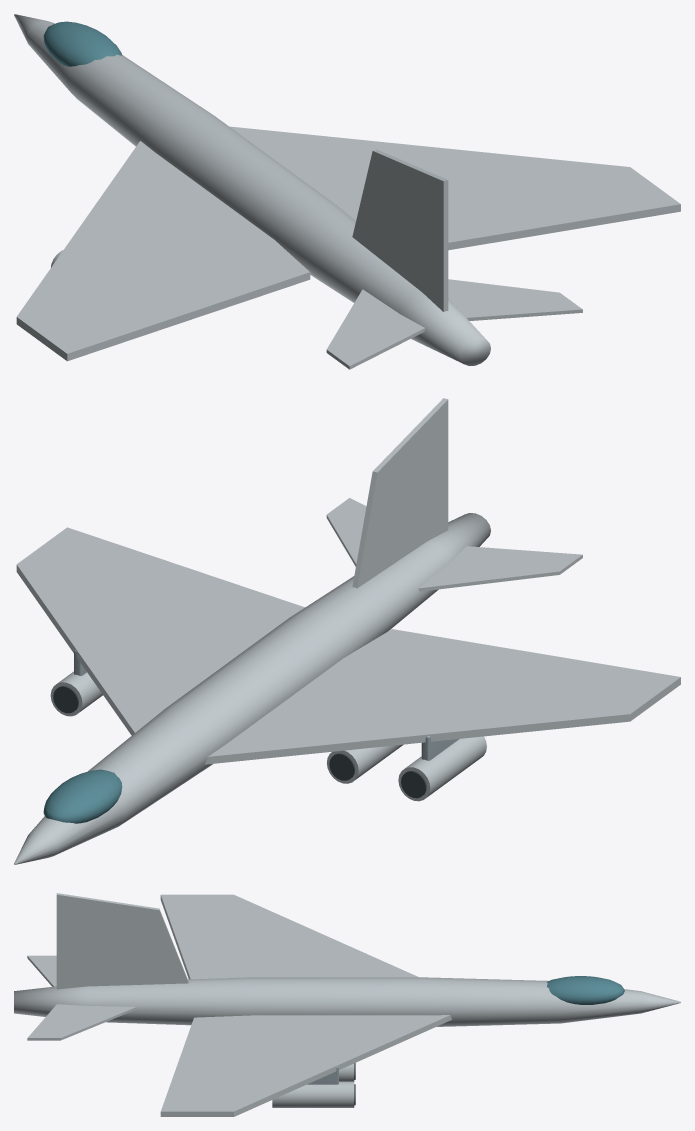
Rendered from generic-bomber.glb.
3 views of the same model, one above another, from view 1: azimuth 30°, elevation 25°; view 2: azimuth 150°, elevation 25°; view 3: azimuth 270°, elevation 25° (orthographic). The views are drawn at different scales.
Parts seen in each view (by area): view 1: bomber_SweptWing, bomber_Fuselage, bomber_SweptWing.001, bomber_VerticalTail, bomber_Tailplane, bomber_Tailplane.001, bomber_Cockpit; view 2: bomber_SweptWing, bomber_Fuselage, bomber_SweptWing.001, bomber_VerticalTail, bomber_Tailplane, bomber_Cockpit, bomber_EngineNacelle.001, bomber_Tailplane.001, bomber_EngineNacelle, bomber_EngineNacelle.003; view 3: bomber_Fuselage, bomber_SweptWing.001, bomber_SweptWing, bomber_VerticalTail, bomber_Tailplane.001, bomber_Cockpit, bomber_EngineNacelle.003, bomber_Tailplane.
Boxes of the visible parts, left/top/right/bottom form: bomber_SweptWing: left=16, top=141, right=310, bottom=361; bomber_Fuselage: left=14, top=14, right=490, bottom=365; bomber_SweptWing.001: left=230, top=126, right=680, bottom=250; bomber_VerticalTail: left=352, top=149, right=448, bottom=311; bomber_Tailplane: left=326, top=289, right=425, bottom=369; bomber_Tailplane.001: left=448, top=279, right=582, bottom=320; bomber_Cockpit: left=43, top=21, right=121, bottom=66; bomber_SweptWing: left=205, top=629, right=680, bottom=764; bomber_Fuselage: left=14, top=513, right=490, bottom=864; bomber_SweptWing.001: left=16, top=527, right=304, bottom=735; bomber_VerticalTail: left=352, top=398, right=448, bottom=588; bomber_Tailplane: left=418, top=546, right=582, bottom=591; bomber_Cockpit: left=43, top=769, right=122, bottom=823; bomber_EngineNacelle.001: left=398, top=736, right=486, bottom=801; bomber_Tailplane.001: left=326, top=498, right=366, bottom=566; bomber_EngineNacelle: left=327, top=744, right=403, bottom=783; bomber_EngineNacelle.003: left=50, top=671, right=102, bottom=716; bomber_Fuselage: left=14, top=977, right=680, bottom=1026; bomber_SweptWing.001: left=160, top=1015, right=451, bottom=1116; bomber_SweptWing: left=160, top=894, right=418, bottom=979; bomber_VerticalTail: left=56, top=893, right=188, bottom=989; bomber_Tailplane.001: left=27, top=1004, right=136, bottom=1040; bomber_Cockpit: left=546, top=976, right=624, bottom=1004; bomber_EngineNacelle.003: left=272, top=1081, right=354, bottom=1107; bomber_Tailplane: left=27, top=955, right=56, bottom=986.
Bounding box in the file's own units: 30 × 9.78 × 39.
